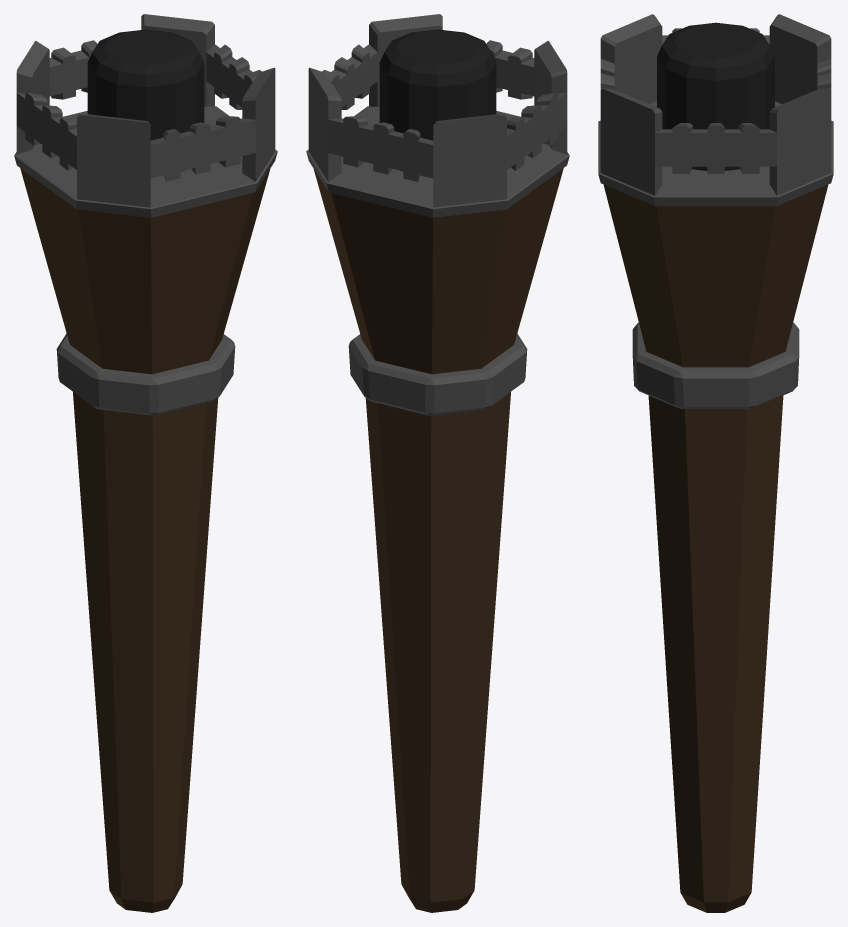
Rendered from Torch.fbx.
The picture shows the model from 3 angles, left to right: view 1: azimuth 30°, elevation 25°; view 2: azimuth 150°, elevation 25°; view 3: azimuth 270°, elevation 25°; orthographic projection.
Parts seen in each view (by area): view 1: Cube, Cylinder; view 2: Cube, Cylinder; view 3: Cube, Cylinder.
Boxes of the visible parts, <box> form: Cube: <box>14,14,277,912</box>; Cylinder: <box>87,29,204,171</box>; Cube: <box>306,14,569,912</box>; Cylinder: <box>379,29,496,171</box>; Cube: <box>598,14,833,912</box>; Cylinder: <box>657,22,774,170</box>.
Size of the model in its own units: 166 by 166 by 675.
